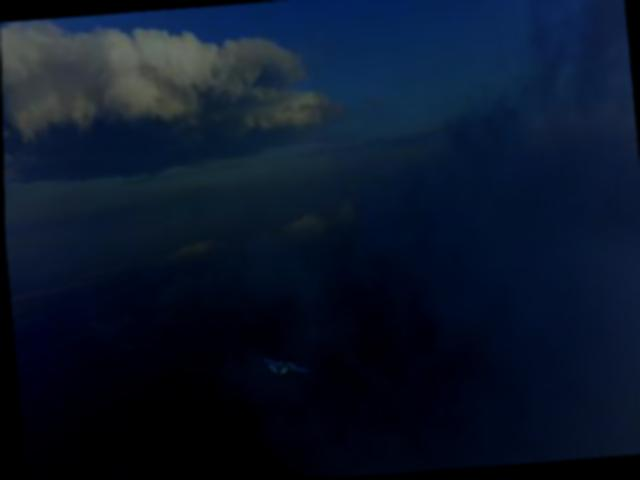uav: (257, 346, 311, 379)
